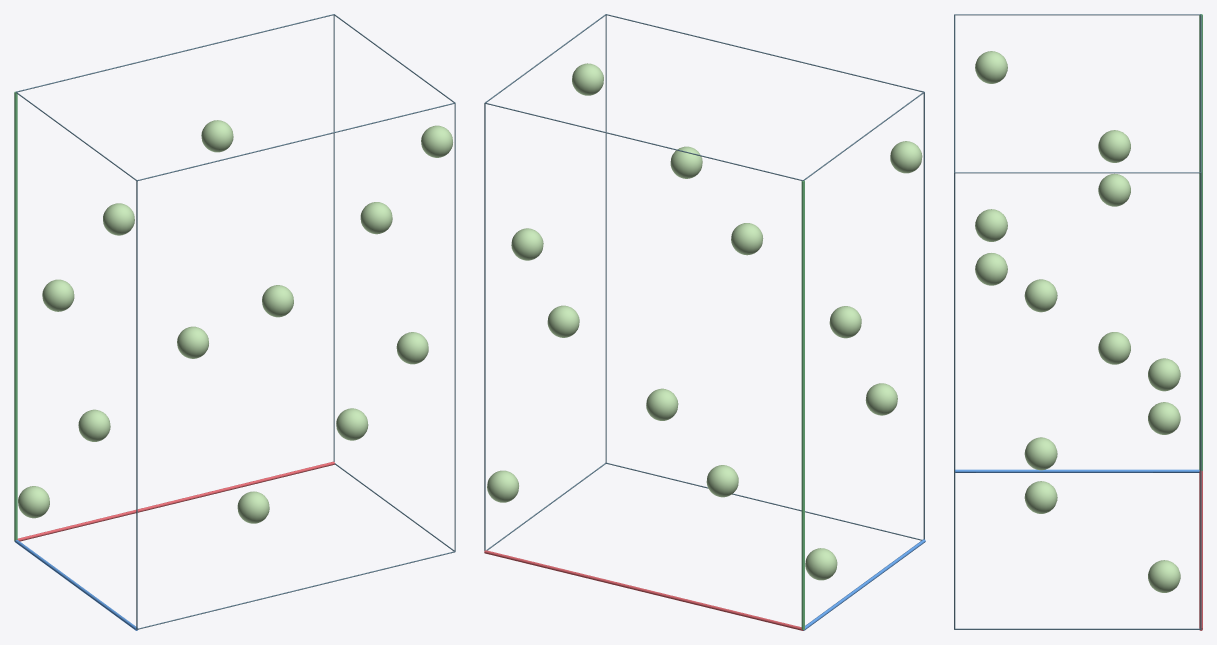
Rendered from nguyen-to-i.glb.
3 renders of one model, left to right at view 1: azimuth 30°, elevation 25°; view 2: azimuth 150°, elevation 25°; view 3: azimuth 270°, elevation 25°, orthographic.
Parts seen in each view (by area): view 1: I · I · 1 (×12), Ô mạng và các trục a, b, c; view 2: I · I · 1 (×12), Ô mạng và các trục a, b, c; view 3: I · I · 1 (×12), Ô mạng và các trục a, b, c.
Boxes of the visible parts, bbox=[...] form: I · I · 1 (×12): bbox=[18, 120, 452, 523]; Ô mạng và các trục a, b, c: bbox=[14, 14, 455, 630]; I · I · 1 (×12): bbox=[487, 63, 922, 580]; Ô mạng và các trục a, b, c: bbox=[484, 14, 925, 630]; I · I · 1 (×12): bbox=[975, 51, 1180, 592]; Ô mạng và các trục a, b, c: bbox=[954, 14, 1202, 630].
Size of the model in its own units: 7.91 by 9.84 by 4.84.
